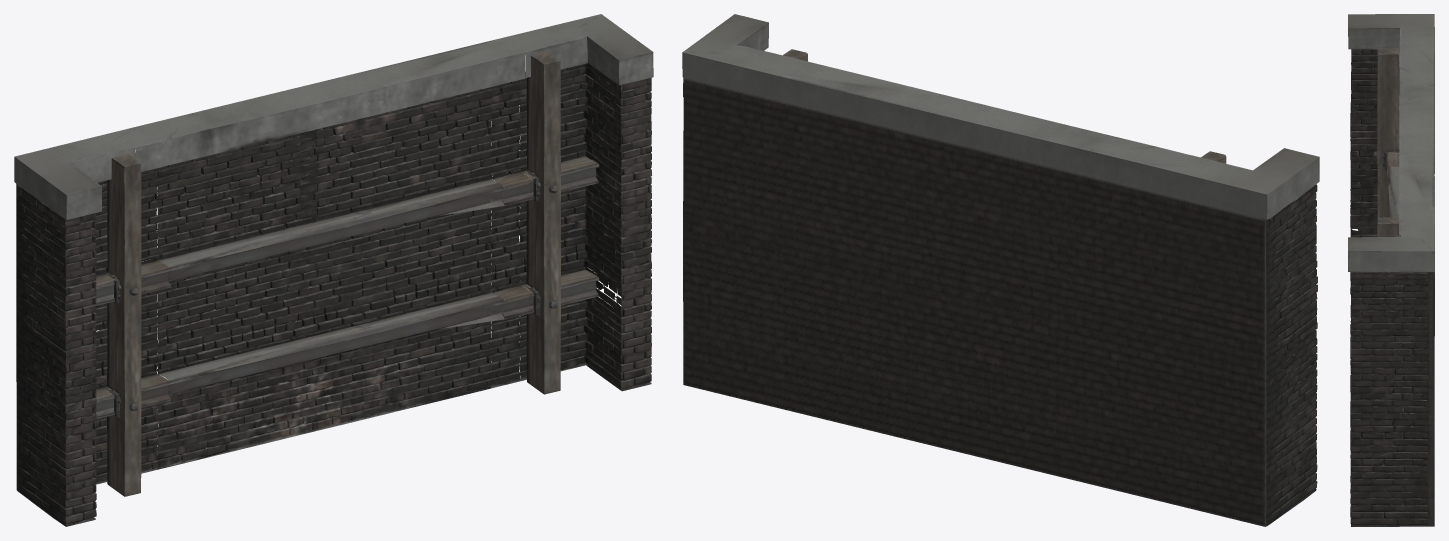
The model's file is shaft_collar_guides.glb.
3 views of the same model, side by side, from view 1: azimuth 30°, elevation 25°; view 2: azimuth 150°, elevation 25°; view 3: azimuth 270°, elevation 25° (orthographic). The views are drawn at different scales.
Visible parts, largest first — view 1: main; view 2: main; view 3: main.
Part boxes in pixels (x1=…): main: x1=14, y1=14, x2=653, y2=526; main: x1=682, y1=14, x2=1319, y2=526; main: x1=1348, y1=14, x2=1434, y2=526.
Size of the model in its own units: 5.13 by 2.79 by 0.792.
Materials: 1 (1 with a texture image).
